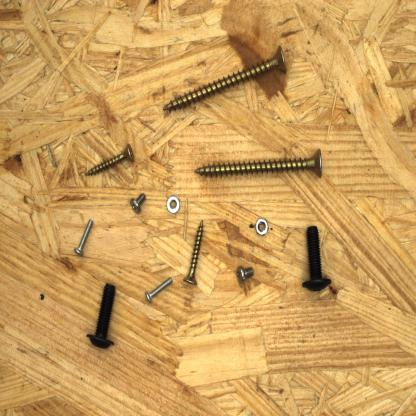screw: (158, 39, 290, 116), (193, 146, 325, 182), (298, 222, 336, 295), (83, 277, 119, 352), (83, 140, 137, 182), (181, 216, 205, 291), (72, 217, 96, 257), (144, 275, 174, 306), (235, 262, 260, 287), (127, 190, 149, 217)
